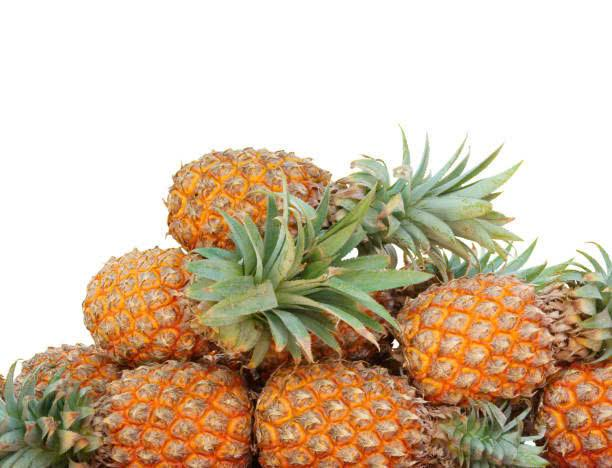pineapple: (163, 145, 518, 266), (253, 353, 557, 468), (84, 247, 390, 352), (1, 355, 258, 468), (390, 270, 612, 392), (543, 360, 612, 468)
